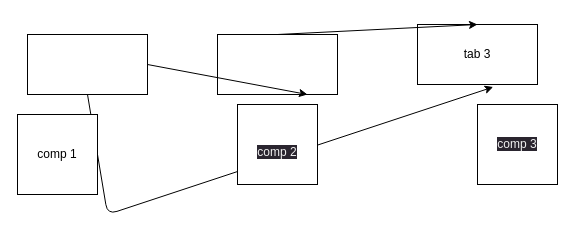
Image size: 575x240. Some labels were removed from this diagram. Each missing label, with the centre of its shape:
"tab 1" goes at [87,64].
"tab 2" goes at [277,64].
